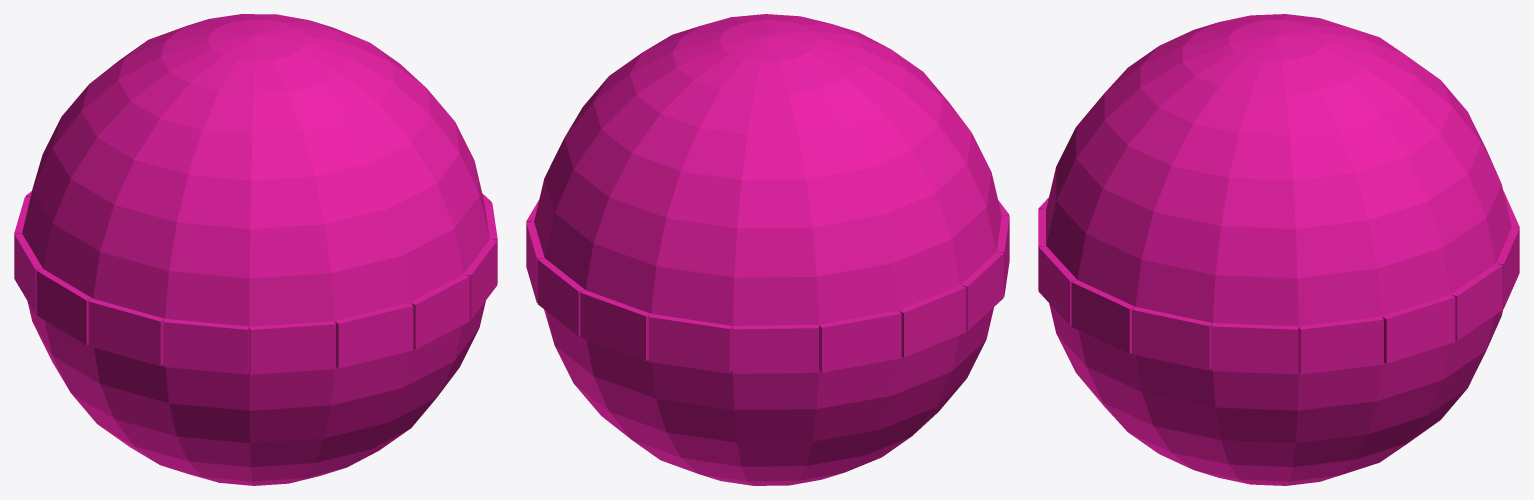
The model's file is bathbombTextured.fbx.
The picture shows the model from 3 angles, left to right: view 1: azimuth 30°, elevation 25°; view 2: azimuth 150°, elevation 25°; view 3: azimuth 270°, elevation 25°; orthographic projection.
Parts seen in each view (by area): view 1: Sphere; view 2: Sphere; view 3: Sphere.
Boxes of the visible parts, x1,y1,x2,y2 form: Sphere: (14,14,497,485); Sphere: (526,14,1009,485); Sphere: (1038,14,1519,485).
Bounding box in the file's own units: 0.2456 × 0.24 × 0.2446.
